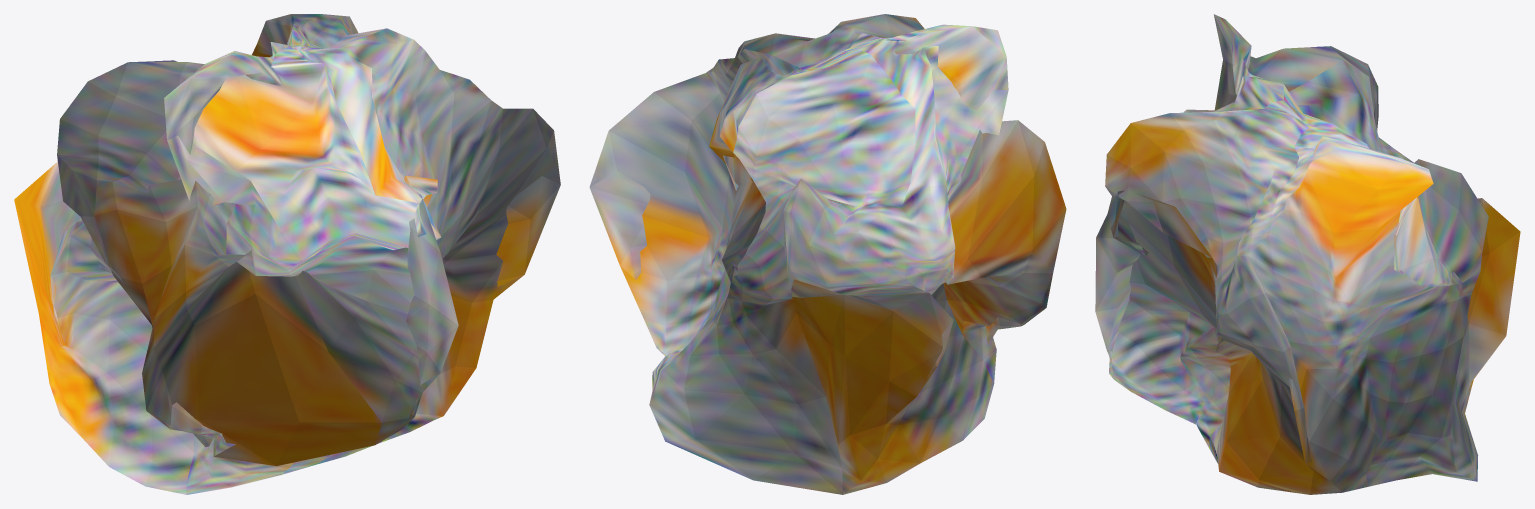
3 views of the same model, side by side, from view 1: azimuth 30°, elevation 25°; view 2: azimuth 150°, elevation 25°; view 3: azimuth 270°, elevation 25° (orthographic). The views are drawn at different scales.
Parts seen in each view (by area): view 1: pMesh1; view 2: pMesh1; view 3: pMesh1.
Boxes of the visible parts, x1=… form: pMesh1: x1=14, y1=14, x2=560, y2=494; pMesh1: x1=589, y1=14, x2=1066, y2=494; pMesh1: x1=1095, y1=14, x2=1520, y2=494.
Size of the model in its own units: 3.3 by 2.95 by 2.92.
Materials: 1 (1 with a texture image).
